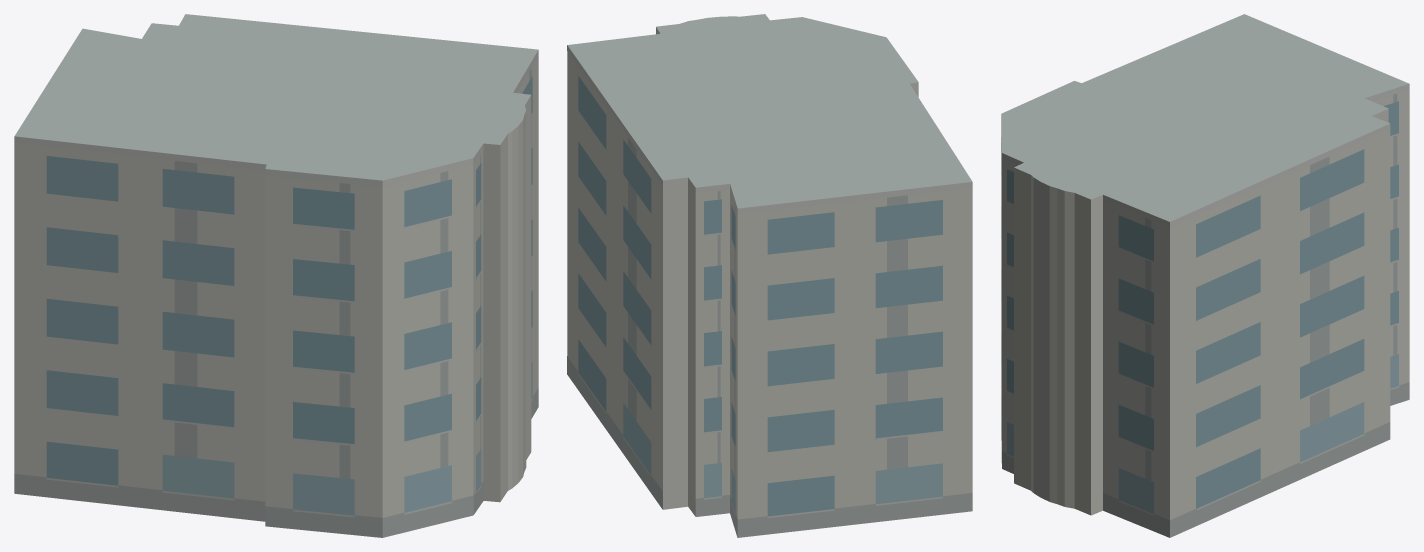
The model's file is survey-upis-32892880.glb.
The picture shows the model from 3 angles, left to right: view 1: azimuth 30°, elevation 25°; view 2: azimuth 150°, elevation 25°; view 3: azimuth 270°, elevation 25°; orthographic projection. The views are drawn at different scales.
Parts seen in each view (by area): view 1: survey-upis-32892880.tmp; view 2: survey-upis-32892880.tmp; view 3: survey-upis-32892880.tmp.
Boxes of the visible parts, left/top/right/bottom form: survey-upis-32892880.tmp: left=14, top=14, right=538, bottom=537; survey-upis-32892880.tmp: left=567, top=14, right=972, bottom=537; survey-upis-32892880.tmp: left=1001, top=14, right=1409, bottom=537.
Size of the model in its own units: 18.64 by 13.2 by 15.47.
